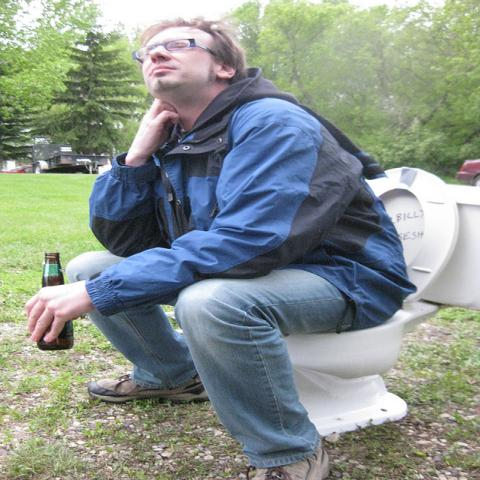car: (454, 159, 480, 187)
